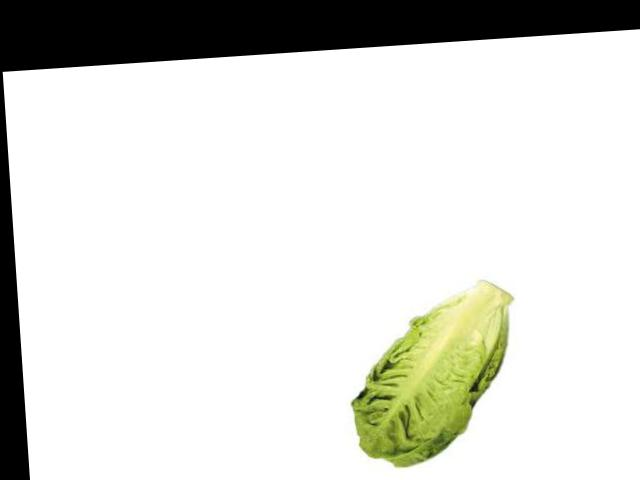lettuce: (370, 296, 521, 465)
